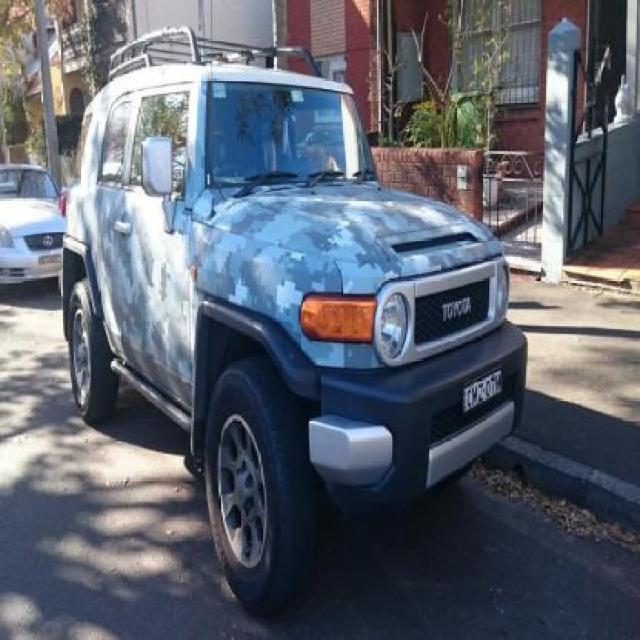License-Plates: (462, 361, 507, 416)
